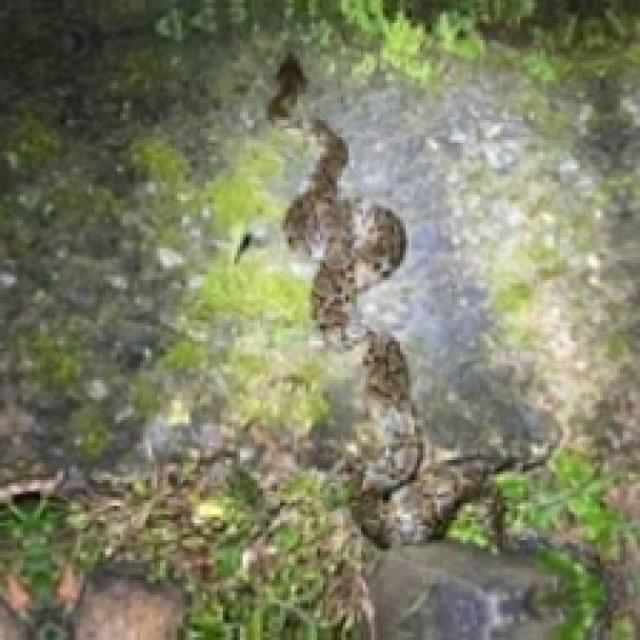reticulated python: (268, 55, 552, 548)
